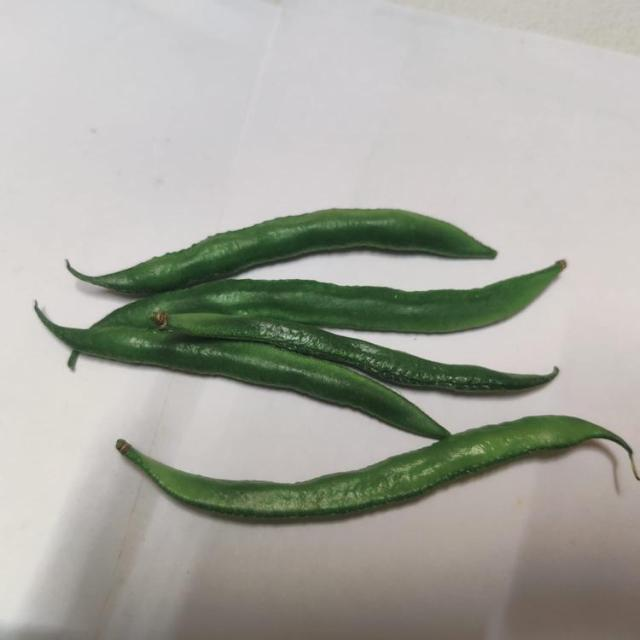Organik: (80, 213, 566, 339), (42, 307, 530, 432), (112, 419, 640, 524)
